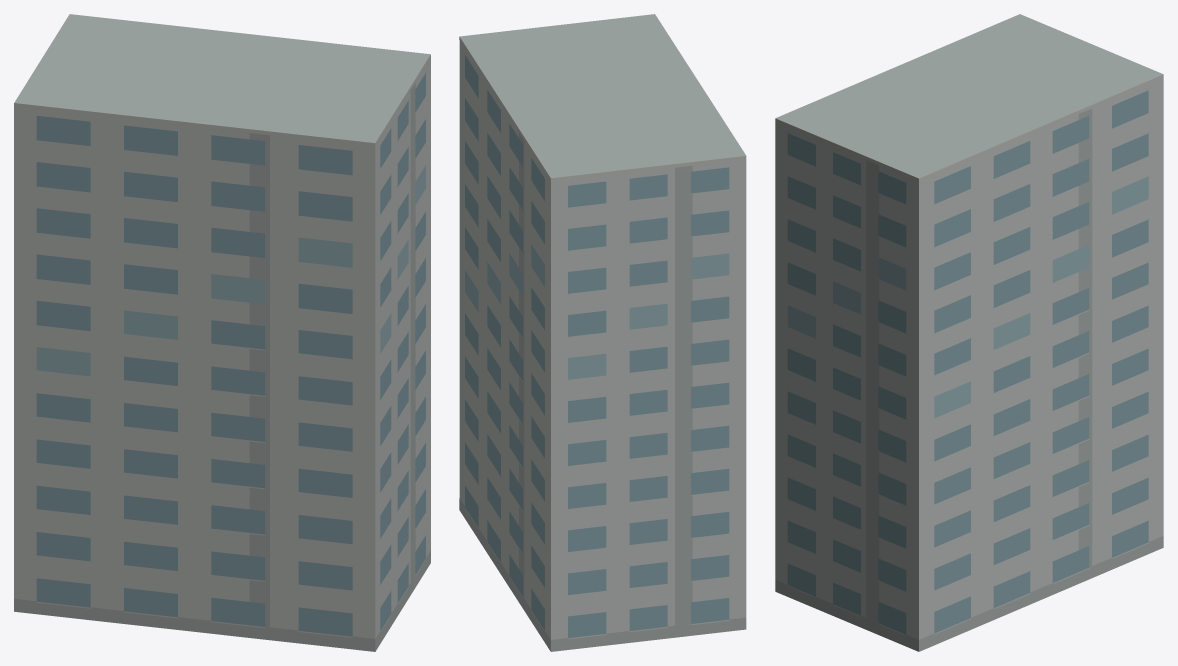
Rendered from residential-1a71fa36-eec7-47fb-82f3-994c3d2a2743.glb.
3 renders of one model, left to right at view 1: azimuth 30°, elevation 25°; view 2: azimuth 150°, elevation 25°; view 3: azimuth 270°, elevation 25°, orthographic. The views are drawn at different scales.
Parts seen in each view (by area): view 1: residential-1a71fa36-eec7-47fb-82f3-994c3d2a2743.tmp; view 2: residential-1a71fa36-eec7-47fb-82f3-994c3d2a2743.tmp; view 3: residential-1a71fa36-eec7-47fb-82f3-994c3d2a2743.tmp.
Boxes of the visible parts, x1=… form: residential-1a71fa36-eec7-47fb-82f3-994c3d2a2743.tmp: x1=14, y1=14, x2=430, y2=651; residential-1a71fa36-eec7-47fb-82f3-994c3d2a2743.tmp: x1=459, y1=14, x2=746, y2=651; residential-1a71fa36-eec7-47fb-82f3-994c3d2a2743.tmp: x1=775, y1=14, x2=1163, y2=651.
Size of the model in its own units: 23.87 by 32 by 23.81.
